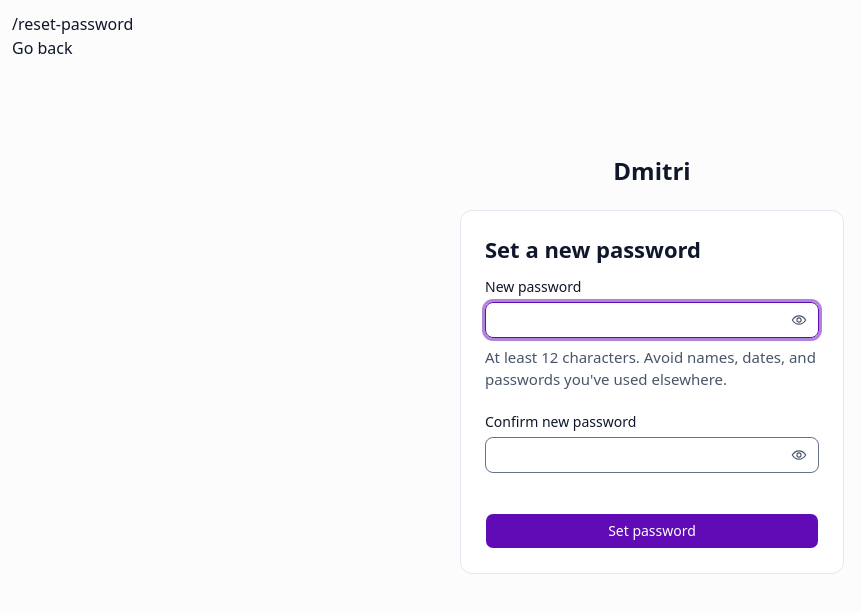
Test: ResetPassword › renders the mismatch error and issues zero requests
In the password field labelled "New password": coordinates (652, 320) [485,302,819,338], type "a-long-enough-password"
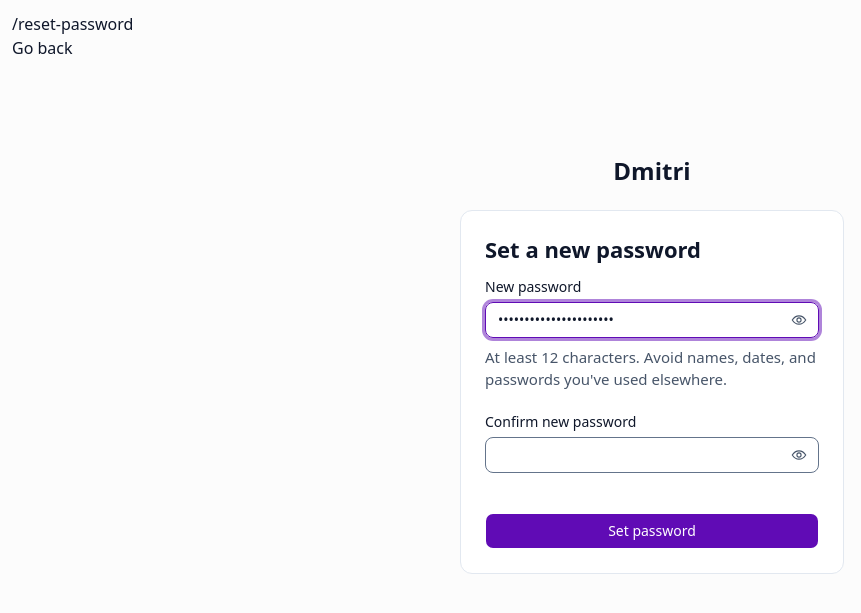
In the password field labelled "Confirm new password": coordinates (652, 455) [485,437,819,473], type "a-different-password"
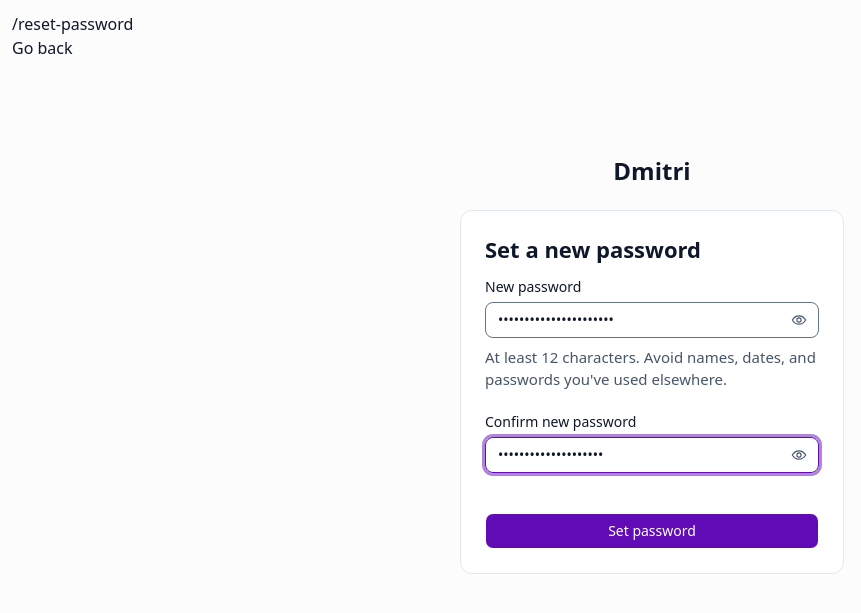
Click the button with test id "reset-submit": coordinates (652, 531) [485,513,819,549]
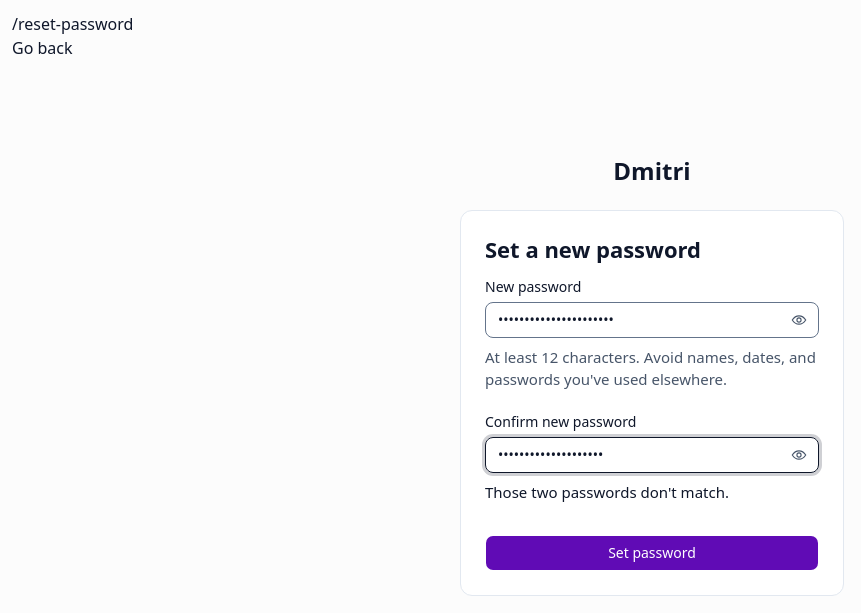
Expected: the form with test id "reset-form" is shown, [485,235,819,571]
Expected: the message with test id "reset-confirm-error" reads "Those two passwords don't match.", [485,482,729,502]
